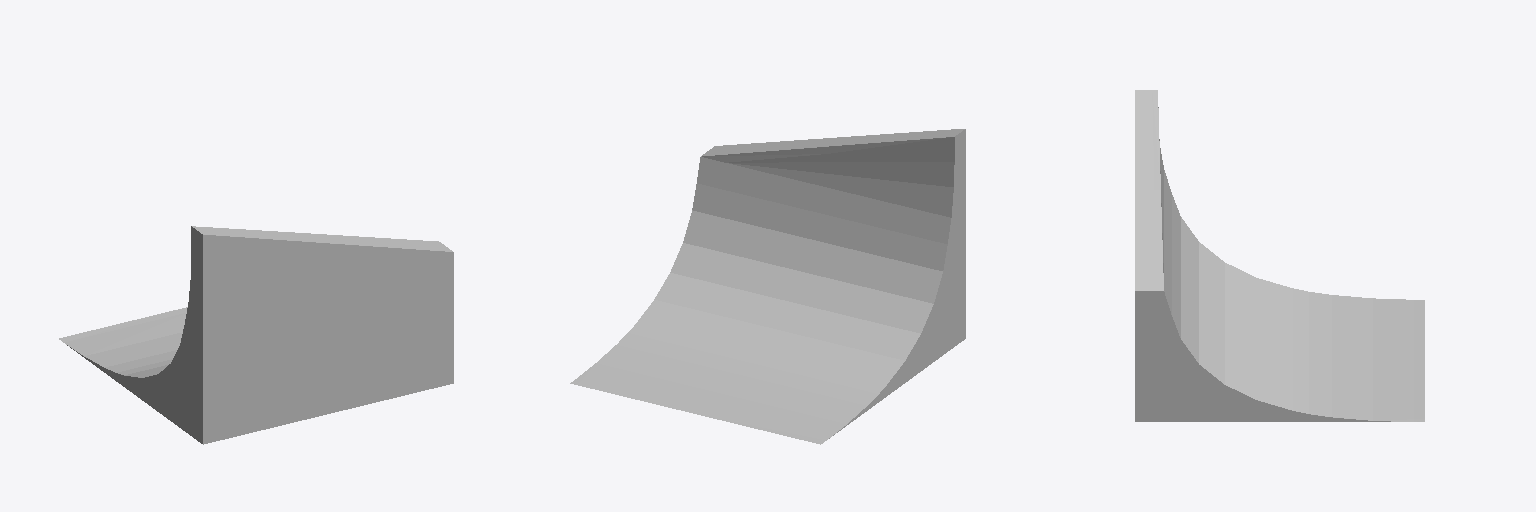
Rendered from Quater_SML_HighVert_LR.obj.
3 views of the same model, side by side, from view 1: azimuth 30°, elevation 25°; view 2: azimuth 150°, elevation 25°; view 3: azimuth 270°, elevation 25° (orthographic).
Parts seen in each view (by area): view 1: Quater_SML_HighVert_LR; view 2: Quater_SML_HighVert_LR; view 3: Quater_SML_HighVert_LR.
Boxes of the visible parts, x1=… form: Quater_SML_HighVert_LR: x1=59, y1=226, x2=453, y2=444; Quater_SML_HighVert_LR: x1=570, y1=129, x2=965, y2=444; Quater_SML_HighVert_LR: x1=1135, y1=90, x2=1424, y2=421.
Bounding box in the file's own units: 10 × 8 × 10.